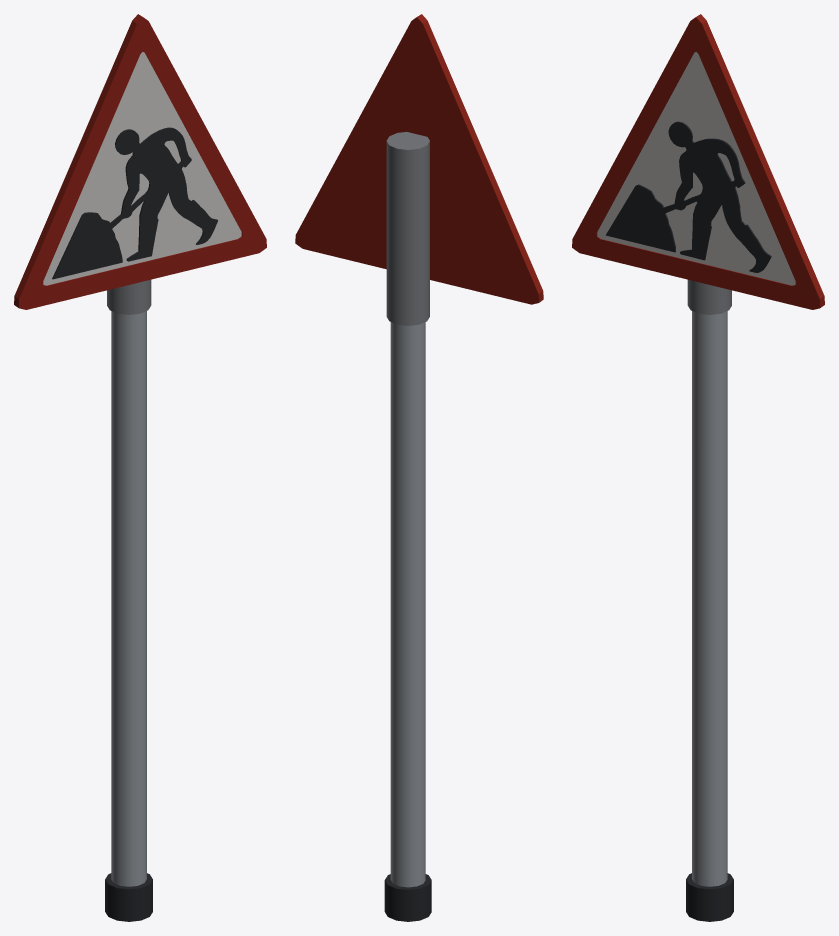
The model's file is TrafficSign_6.fbx.
3 views of the same model, side by side, from view 1: azimuth 30°, elevation 25°; view 2: azimuth 150°, elevation 25°; view 3: azimuth 330°, elevation 25° (orthographic).
Parts seen in each view (by area): view 1: TrafficSign_6; view 2: TrafficSign_6; view 3: TrafficSign_6.
Boxes of the visible parts, box(x1,y1,x2,y2) form: TrafficSign_6: box(14, 14, 266, 921); TrafficSign_6: box(295, 14, 543, 921); TrafficSign_6: box(572, 14, 824, 921).
Size of the model in its own units: 60.54 by 211 by 11.03.
